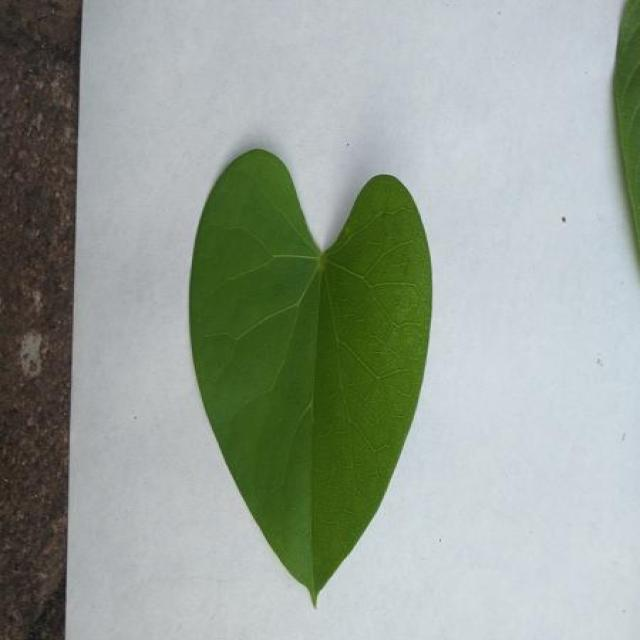Amruthaballi: (190, 150, 430, 603)
